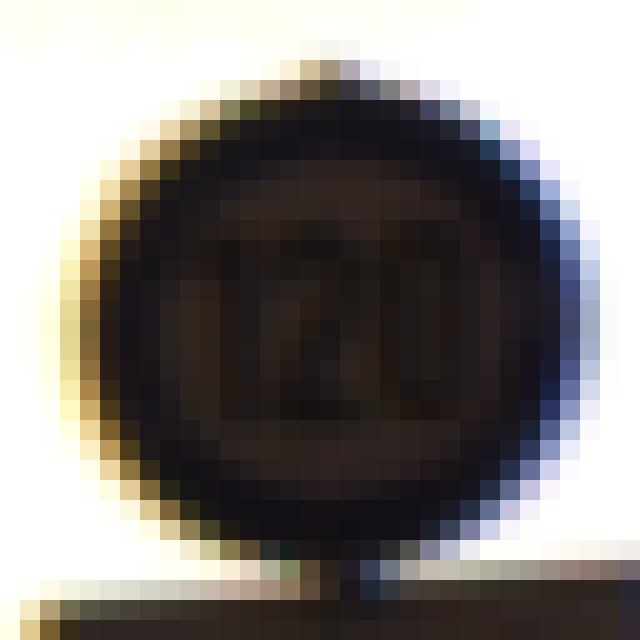SPEED LIMIT 120: (93, 73, 586, 559)
